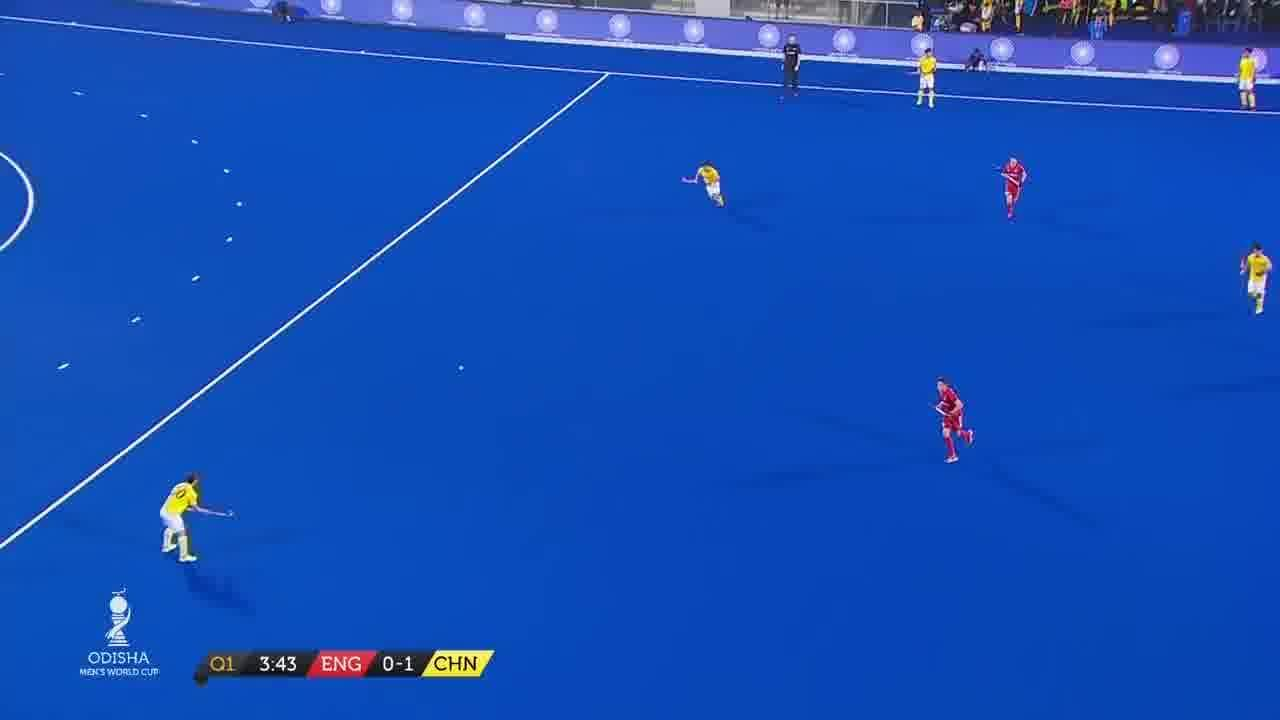ball: (448, 362, 472, 373)
